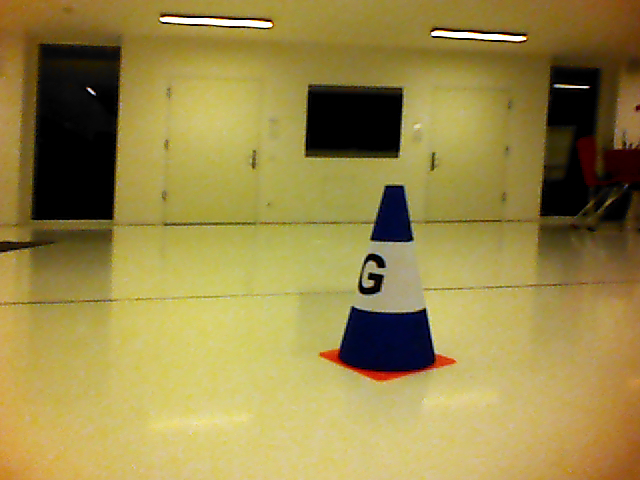bluecone: (338, 183, 437, 376)
